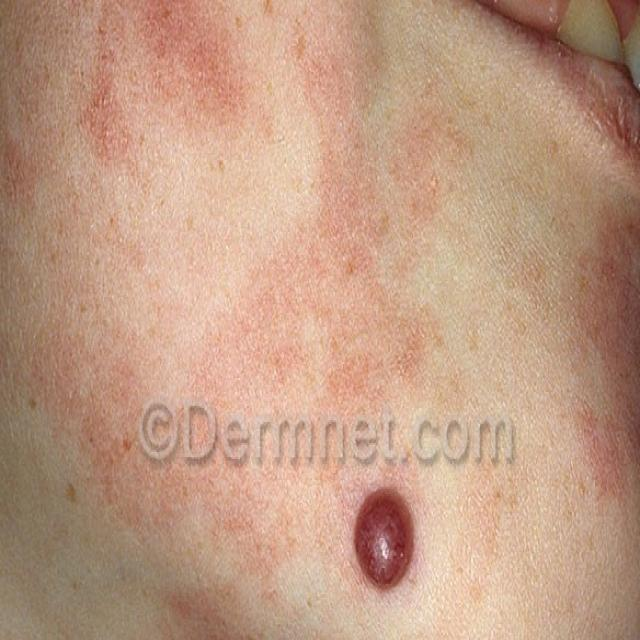Vascular Tumors: (51, 320, 279, 604), (305, 123, 467, 400), (84, 0, 284, 197), (322, 462, 437, 640)
